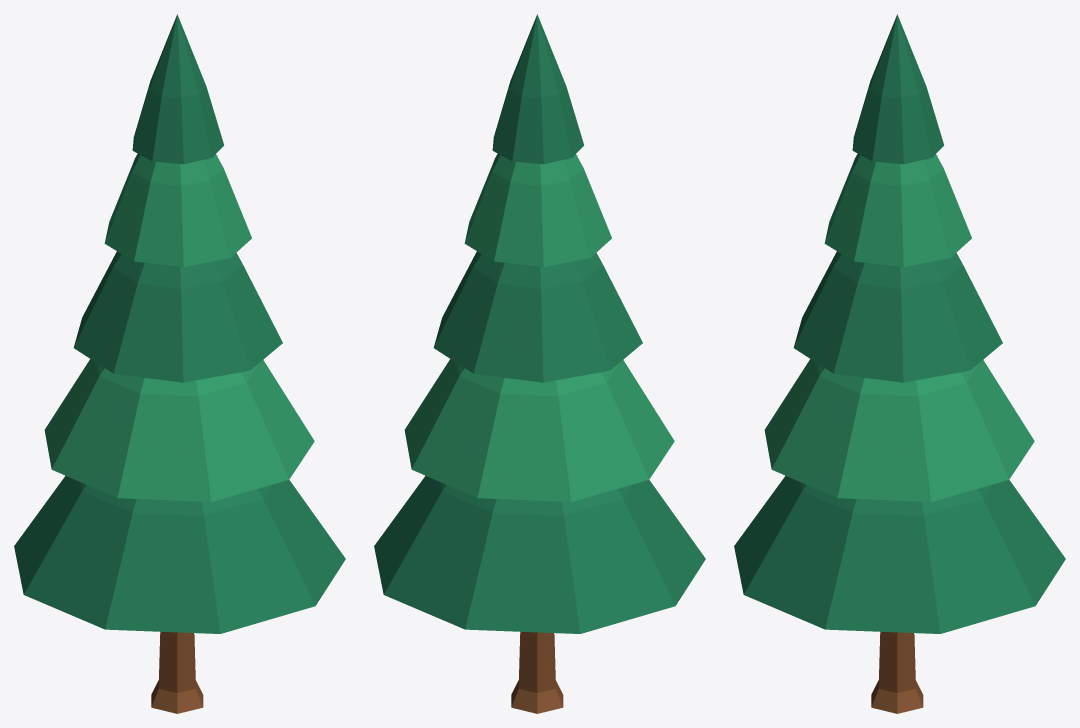
The model's file is pine_b.glb.
The picture shows the model from 3 angles, left to right: view 1: azimuth 30°, elevation 25°; view 2: azimuth 150°, elevation 25°; view 3: azimuth 270°, elevation 25°; orthographic projection.
Parts seen in each view (by area): view 1: pine_b; view 2: pine_b; view 3: pine_b.
Part boxes in pixels (x1=…): pine_b: x1=14, y1=14, x2=345, y2=713; pine_b: x1=374, y1=14, x2=705, y2=713; pine_b: x1=734, y1=14, x2=1065, y2=713.
Bounding box in the file's own units: 5.3 × 12.1 × 5.3.
